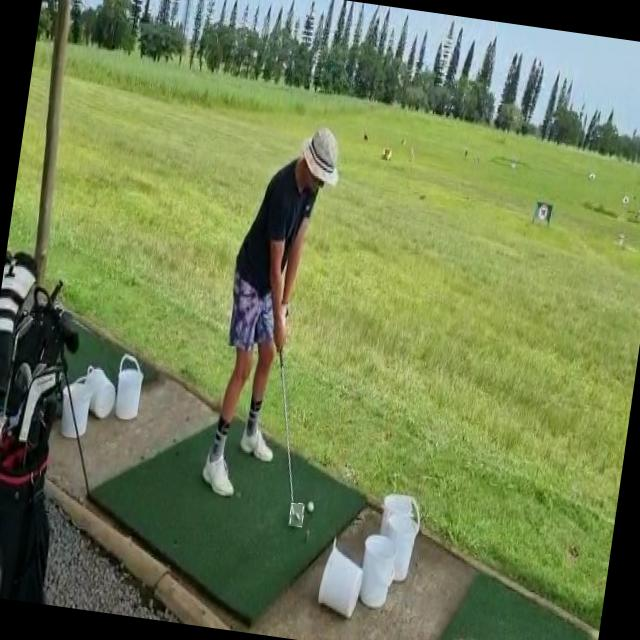club head: (288, 502, 305, 528)
